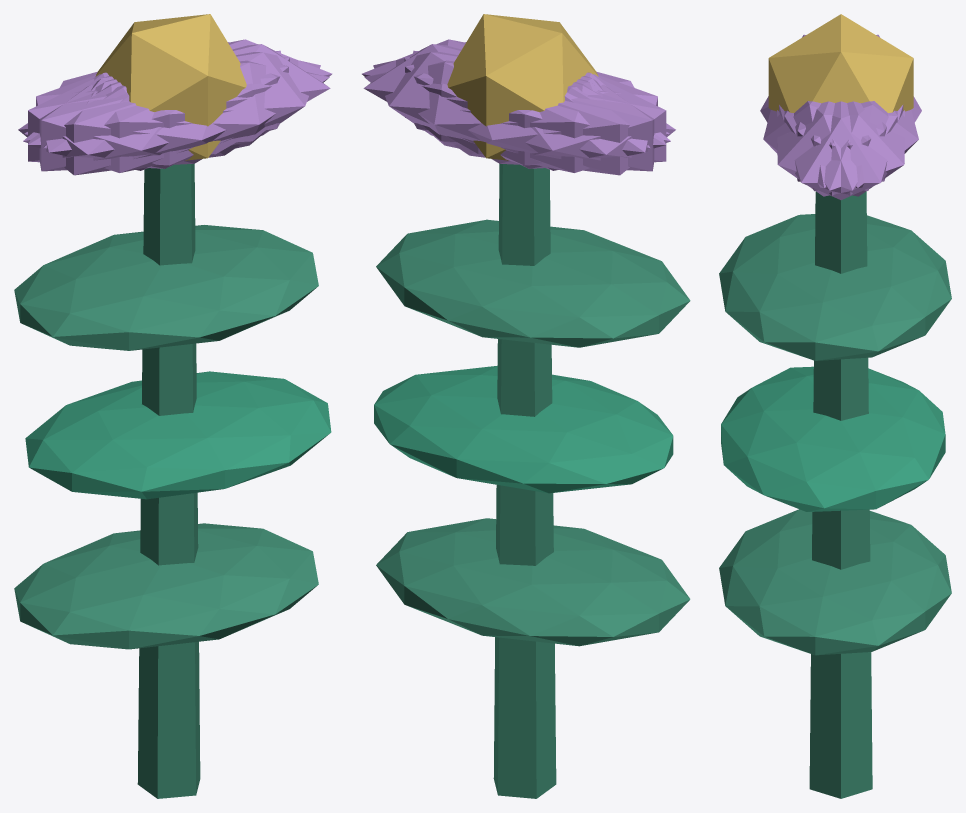
Rendered from neptunia-oleracea.glb.
3 renders of one model, left to right at view 1: azimuth 30°, elevation 25°; view 2: azimuth 150°, elevation 25°; view 3: azimuth 270°, elevation 25°, orthographic.
Visible parts, largest first — view 1: leaf1, leaf2, leaf0, stem, center, petal1, petal6, petal2, petal5, petal7, petal0, petal4 (+2 smaller); view 2: leaf2, leaf0, leaf1, stem, center, petal8, petal3, petal7, petal4, petal2, petal0, petal5 (+2 smaller); view 3: leaf2, leaf1, leaf0, stem, center, petal0, petal5, petal4, petal8, petal1.
Part boxes in pixels (x1,y1,x2,y2): leaf1: [25, 371, 331, 499]; leaf2: [14, 225, 318, 350]; leaf0: [14, 523, 318, 649]; stem: [137, 163, 200, 798]; center: [95, 14, 246, 160]; petal1: [23, 60, 329, 172]; petal6: [18, 74, 240, 175]; petal2: [39, 50, 280, 171]; petal5: [44, 52, 320, 165]; petal7: [28, 57, 289, 168]; petal0: [95, 44, 330, 154]; petal4: [24, 39, 332, 145]; leaf2: [376, 219, 690, 347]; leaf0: [376, 518, 690, 646]; leaf1: [374, 365, 673, 493]; stem: [493, 163, 556, 798]; center: [447, 14, 598, 160]; petal8: [364, 60, 670, 172]; petal3: [454, 74, 675, 175]; petal7: [413, 50, 654, 171]; petal4: [373, 52, 650, 165]; petal2: [404, 57, 666, 168]; petal0: [363, 44, 598, 154]; petal5: [362, 39, 669, 145]; leaf2: [719, 214, 951, 360]; leaf1: [721, 366, 945, 511]; leaf0: [719, 509, 951, 655]; stem: [809, 191, 872, 798]; center: [768, 14, 913, 112]; petal0: [779, 101, 903, 199]; petal5: [777, 101, 897, 196]; petal4: [784, 101, 904, 196]; petal8: [795, 101, 918, 187]; petal1: [763, 101, 886, 187].
Size of the model in its own units: 0.1452 by 0.3505 by 0.0984.
